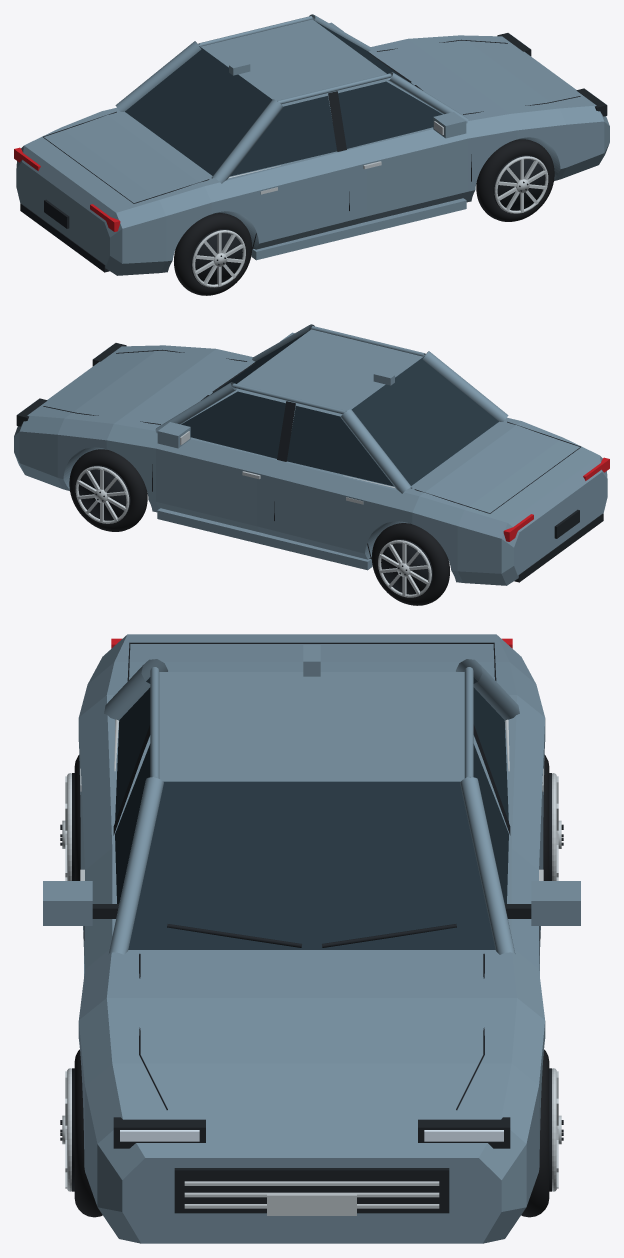
File: riv0.glb
The picture shows the model from 3 angles, top to bottom: view 1: azimuth 30°, elevation 25°; view 2: azimuth 150°, elevation 25°; view 3: azimuth 270°, elevation 25°; orthographic projection. The views are drawn at different scales.
Visible parts, largest first — view 1: 家用車; view 2: 家用車; view 3: 家用車.
Part boxes in pixels (x1,y1,x2,y2): 家用車: [14, 14, 609, 295]; 家用車: [14, 324, 609, 605]; 家用車: [43, 634, 580, 1243].
Size of the model in its own units: 4.74 by 1.5 by 2.16.
